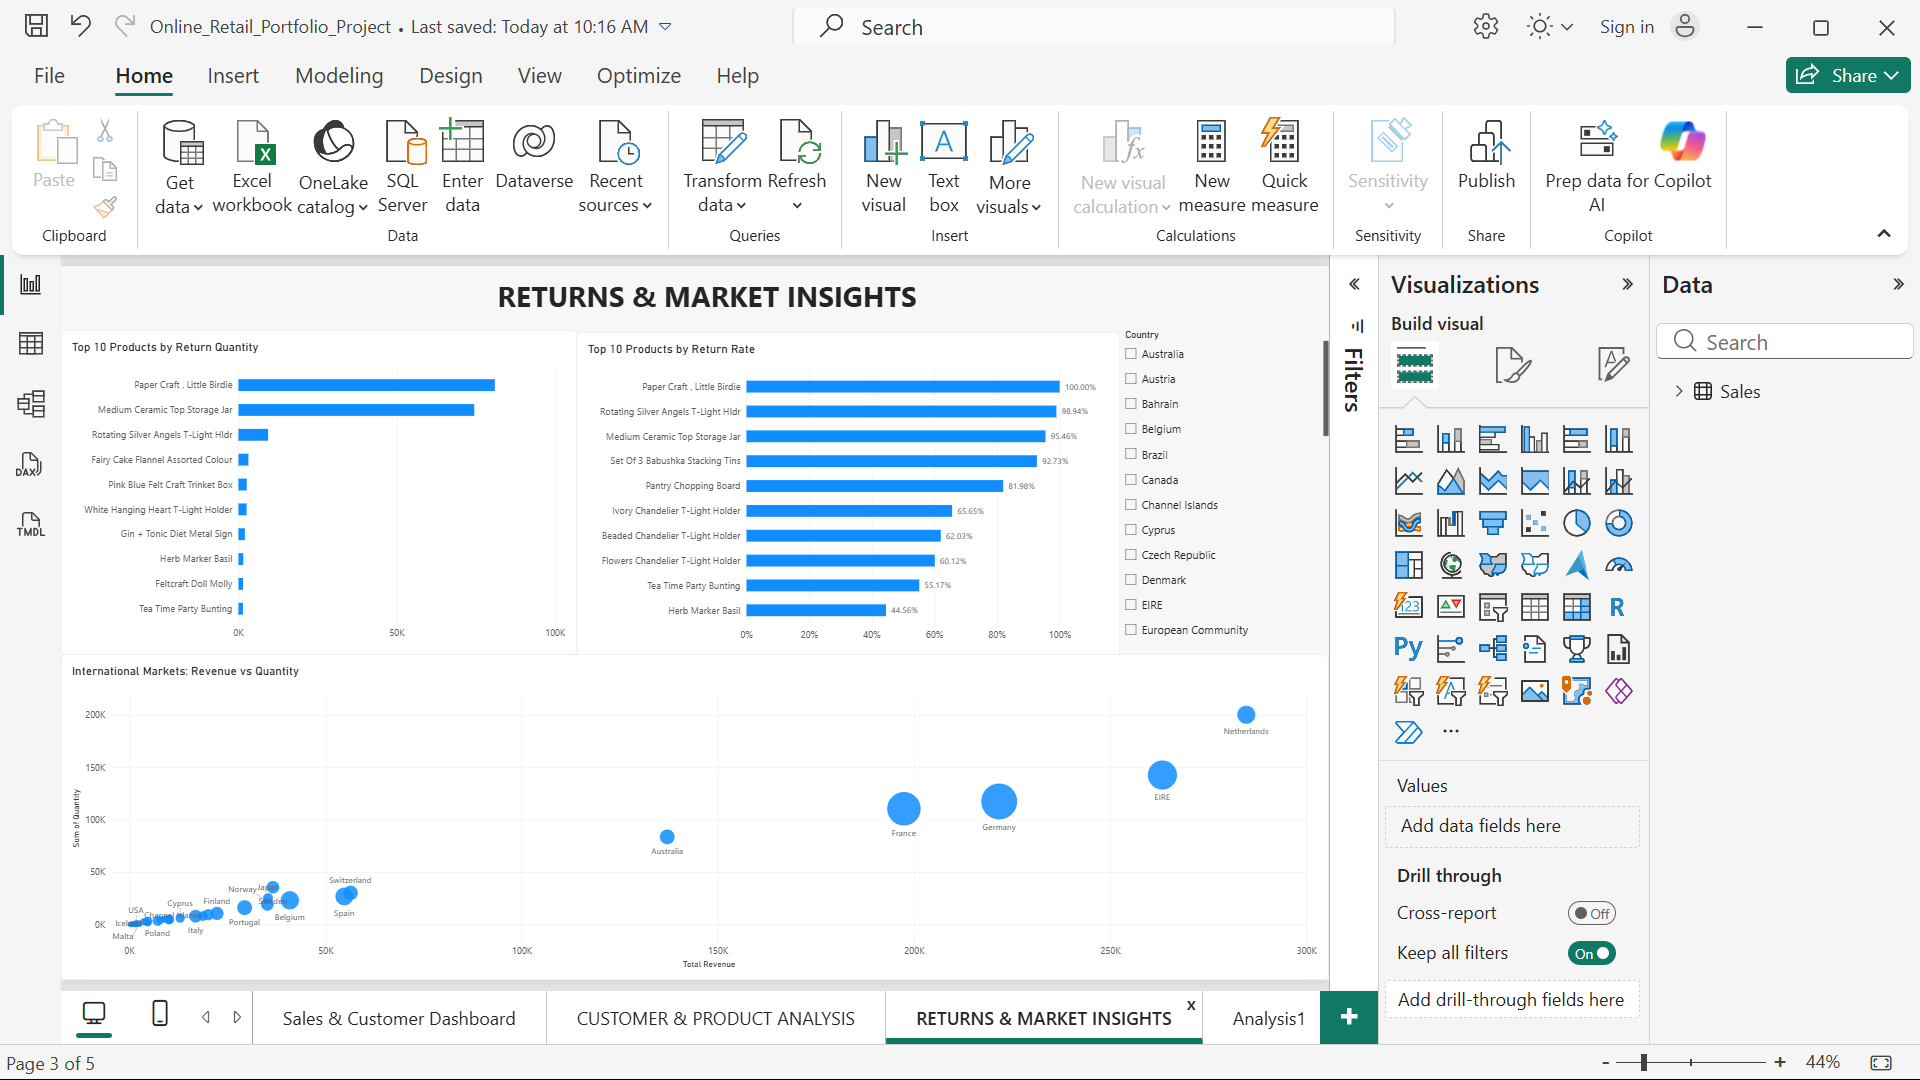

This screenshot's page, from the dashboard's own definition file:
{"tool":"powerbi","page":{"name":"RETURNS & MARKET INSIGHTS","canvas":[1920,1080],"ordinal":2},"visuals":[{"type":"clusteredBarChart","title":"Top 10 Products by Return Quantity","fields":{"Category":["Sales.Clean Description"],"Y":["Sales.Return Quantity"]},"box":[0,97.7,781.3,490.6],"z":0},{"type":"clusteredBarChart","title":"Top 10 Products by Return Rate","fields":{"Category":["Sales.Clean Description"],"Y":["Sales.Meaningful Return Rate"]},"box":[781.3,99.9,822.2,490.6],"z":1},{"type":"scatterChart","title":"International Markets: Revenue vs Quantity","fields":{"Category":["Sales.Country"],"Size":["Sales.Total Orders"],"X":["Sales.Total Revenue"],"Y":["Sum(Sales.Quantity)"]},"box":[0,588.3,1919.3,492.9],"z":2},{"type":"textbox","box":[661.1,16.6,661.1,80.6],"z":3},{"type":"slicer","fields":{"Values":["Sales.Country"]},"box":[1603.5,95.4,315.7,474.7],"z":4}]}

Visuals, with their boxes on the page's 1920x1080 design canvas (x1, y1, x2, y2). These are canvas units, not pixel positions in the 1920x1080 screenshot, which may show the page scaled, cropped or inside an application window:
"Top 10 Products by Return Quantity" clusteredBarChart: rect(0, 98, 781, 588)
"Top 10 Products by Return Rate" clusteredBarChart: rect(781, 100, 1604, 590)
"International Markets: Revenue vs Quantity" scatterChart: rect(0, 588, 1919, 1081)
textbox: rect(661, 17, 1322, 97)
slicer - Sales.Country: rect(1604, 95, 1919, 570)
